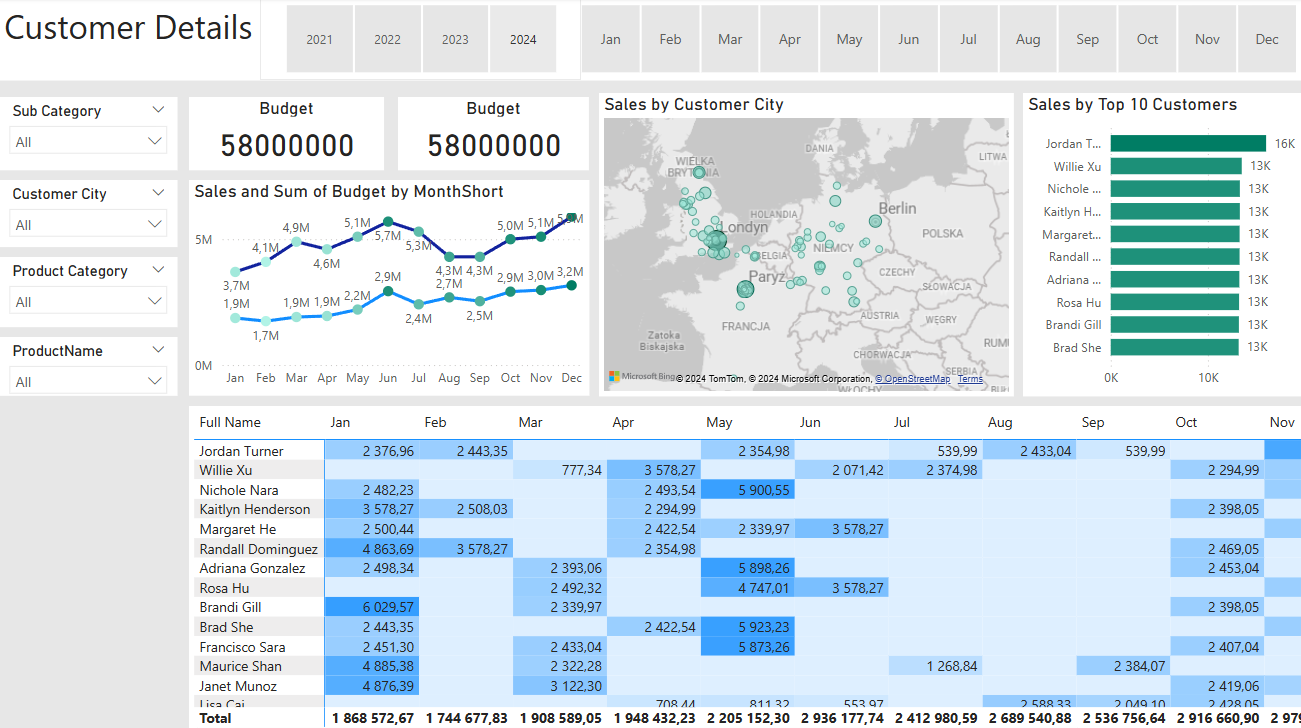

The dashboard page shown, as its layout file describes it:
{"tool":"powerbi","page":{"name":"Duplicate of Page 1","canvas":[1280,720],"ordinal":1},"visuals":[{"type":"textbox","box":[0,0,1280,79.6],"z":0},{"type":"slicer","fields":{"Values":["DIM_Customer.Customer City"]},"box":[0,176.4,173.4,64.9],"z":1000},{"type":"slicer","fields":{"Values":["DIM_Product.Product Category"]},"box":[0,251,173.4,67.8],"z":2000},{"type":"slicer","fields":{"Values":["DIM_Product.ProductName"]},"box":[0,328.5,173.4,57.2],"z":3000},{"type":"slicer","fields":{"Values":["DIM_Product.Sub Category"]},"box":[0,95.9,173.4,70.7],"z":4000},{"type":"slicer","fields":{"Values":["DIM_Calendar.MonthShort"]},"box":[538.4,0,741.6,79.2],"z":5000},{"type":"slicer","fields":{"Values":["DIM_Calendar.Year"]},"box":[252.9,0,311,79.5],"z":6000},{"type":"card","title":"Budget","fields":{"Values":["FACT_Budget.Budget Amount"]},"box":[184.1,95.9,188.9,70.7],"z":7000},{"type":"lineChart","fields":{"Category":["DIM_Calendar.MonthShort"],"Y":["FACT_InternetSales.Sales","FACT_Budget.Budget"]},"box":[184.1,176.4,387.6,209.3],"z":8000},{"type":"barChart","title":"Sales by Top 10 Customers","fields":{"Y":["FACT_InternetSales.Sales"],"Category":["DIM_Customer.Full Name"]},"box":[992.2,92.1,287.8,293.6],"z":9000},{"type":"map","fields":{"Category":["DIM_Customer.Customer City"],"Size":["FACT_InternetSales.Sales"]},"box":[581.4,92.1,402.1,293.6],"z":10000},{"type":"card","title":"Budget","fields":{"Values":["FACT_Budget.Budget Amount"]},"box":[386.6,95.9,185.1,70.7],"z":11000},{"type":"pivotTable","fields":{"Rows":["DIM_Customer.Full Name"],"Columns":["DIM_Calendar.MonthShort"],"Values":["FACT_InternetSales.Sales"]},"box":[184.1,395.3,1095.9,324.6],"z":12000}]}

Visuals, with their boxes in screenshot pixels (x1, y1, x2, y2), scaled from the page's 1280x720 canvas onto the 1301x728 screenshot:
textbox: x1=0, y1=0, x2=1300, y2=80
slicer - DIM_Customer.Customer City: x1=0, y1=178, x2=176, y2=244
slicer - DIM_Product.Product Category: x1=0, y1=254, x2=176, y2=322
slicer - DIM_Product.ProductName: x1=0, y1=332, x2=176, y2=390
slicer - DIM_Product.Sub Category: x1=0, y1=97, x2=176, y2=168
slicer - DIM_Calendar.MonthShort: x1=547, y1=0, x2=1300, y2=80
slicer - DIM_Calendar.Year: x1=257, y1=0, x2=573, y2=80
"Budget" card: x1=187, y1=97, x2=379, y2=168
lineChart - DIM_Calendar.MonthShort x FACT_InternetSales.Sales: x1=187, y1=178, x2=581, y2=390
"Sales by Top 10 Customers" barChart: x1=1008, y1=93, x2=1300, y2=390
map - DIM_Customer.Customer City x FACT_InternetSales.Sales: x1=591, y1=93, x2=1000, y2=390
"Budget" card: x1=393, y1=97, x2=581, y2=168
pivotTable - DIM_Customer.Full Name x DIM_Calendar.MonthShort: x1=187, y1=400, x2=1300, y2=727
